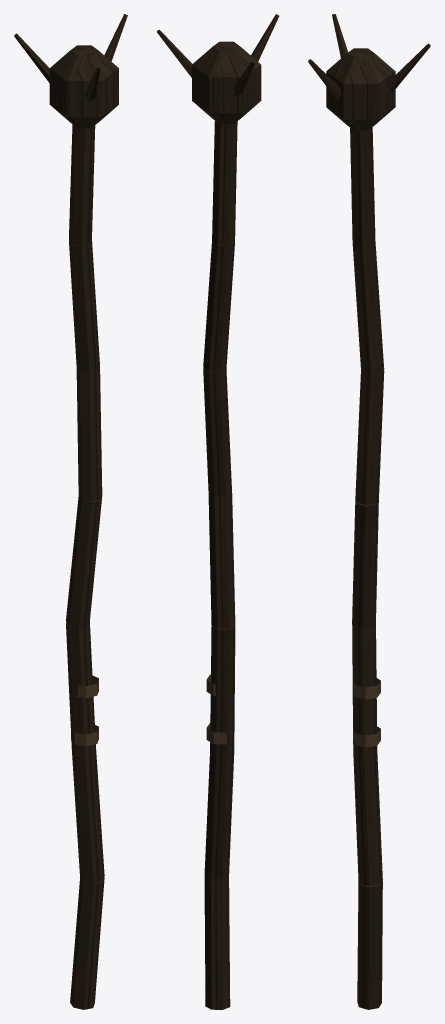
File: wpn_staff_common.glb
The picture shows the model from 3 angles, left to right: view 1: azimuth 30°, elevation 25°; view 2: azimuth 150°, elevation 25°; view 3: azimuth 330°, elevation 25°; orthographic projection.
Parts seen in each view (by area): view 1: wpn_staff_common; view 2: wpn_staff_common; view 3: wpn_staff_common.
Part boxes in pixels (bbox=[...]): wpn_staff_common: bbox=[14, 14, 127, 1009]; wpn_staff_common: bbox=[157, 14, 279, 1009]; wpn_staff_common: bbox=[308, 14, 430, 1009].
Bounding box in the file's own units: 0.2302 × 2.01 × 0.208.
Materials: 2 (2 with a texture image).
